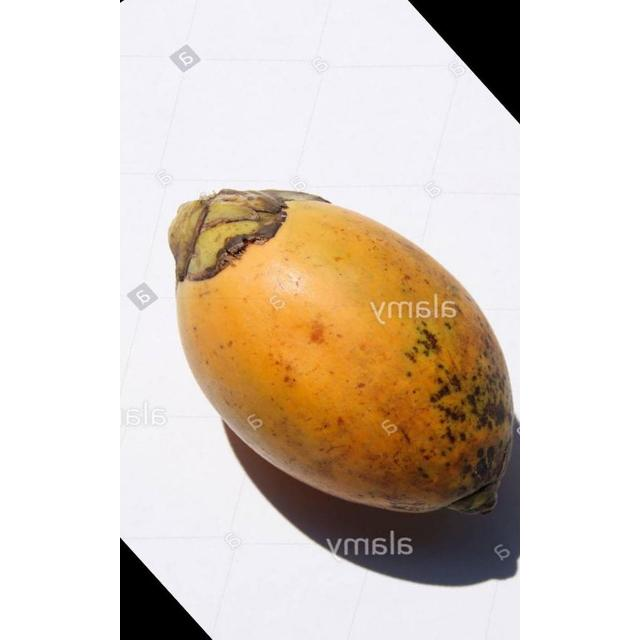good: (168, 190, 516, 517)
